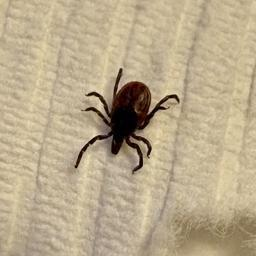Ixodes scapularis: (73, 68, 181, 173)
